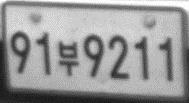1: (156, 35, 174, 82), (134, 35, 150, 82), (34, 32, 51, 76)
2: (108, 33, 132, 79)
9: (82, 34, 106, 78), (9, 29, 31, 74)
부: (57, 39, 79, 76)
